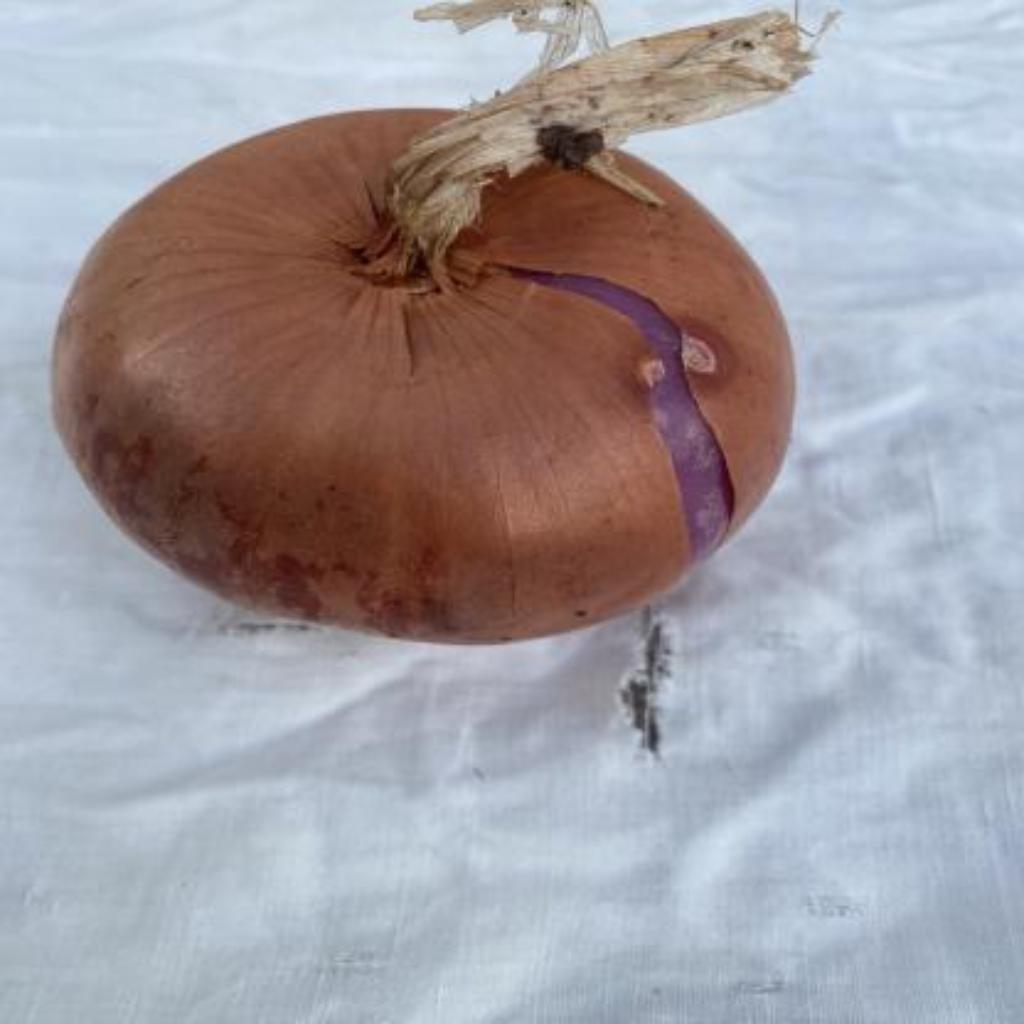Onion: (54, 0, 815, 644)
